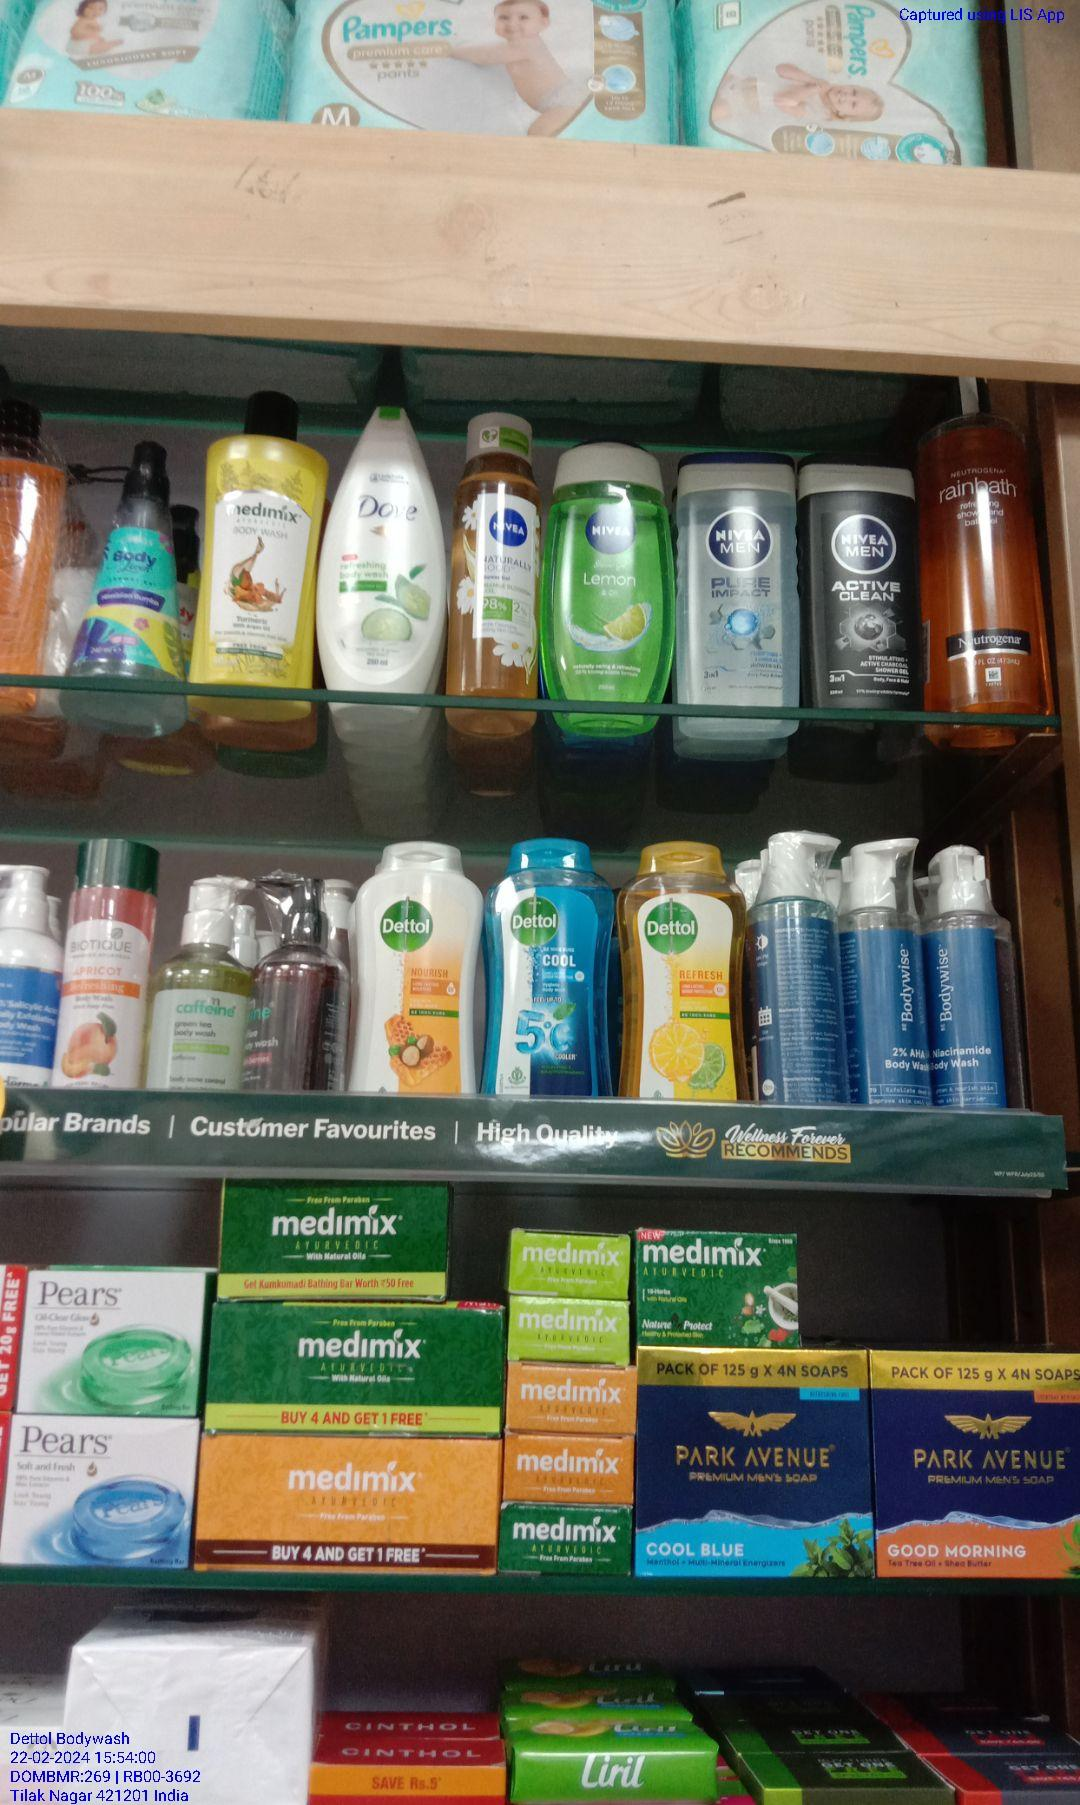Dettol_Bodywash_Cool: (490, 843, 618, 1100)
Dettol_Bodywash_Refresh: (621, 847, 750, 1102)
Dettol_Nourish_Body_Wash_250ML: (356, 852, 482, 1099)
Dove_Refreshing_Body_Wash_250ML: (321, 399, 447, 698)
Nivea_Shower_Gel_Lemon_and_Oil_250ML: (548, 446, 667, 702)
